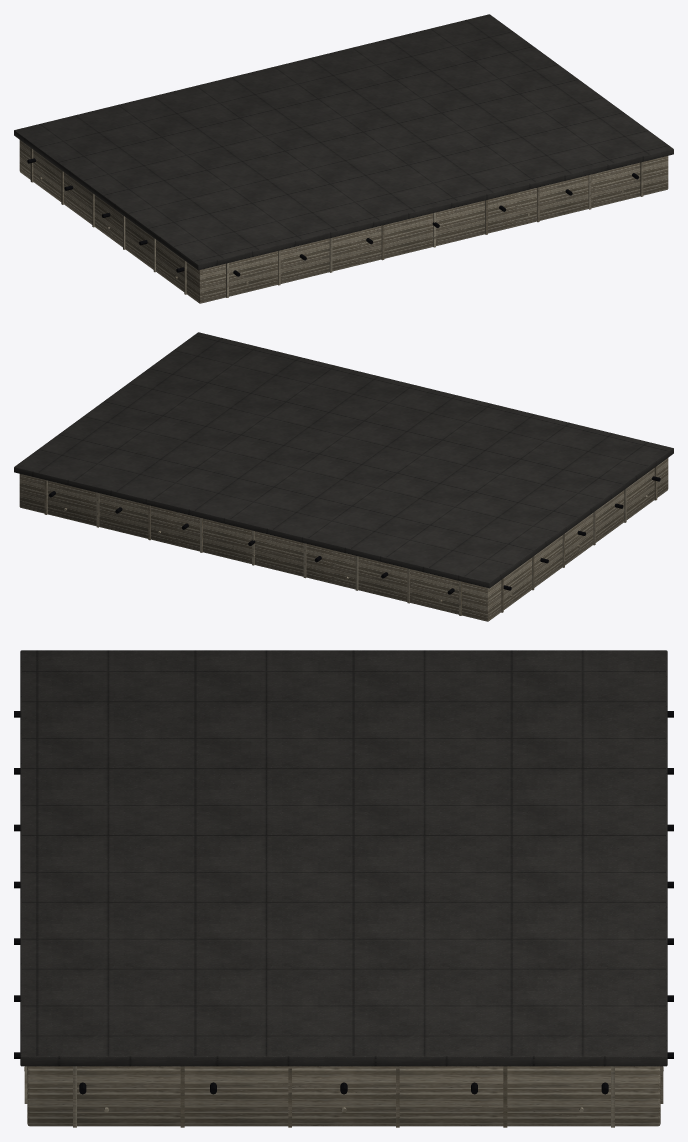
File: fac_stem.glb
The picture shows the model from 3 angles, top to bottom: view 1: azimuth 30°, elevation 25°; view 2: azimuth 150°, elevation 25°; view 3: azimuth 270°, elevation 25°; orthographic projection. The views are drawn at different scales.
Parts seen in each view (by area): view 1: FAC_STEM; view 2: FAC_STEM; view 3: FAC_STEM.
Part boxes in pixels (x1,y1,x2,y2): FAC_STEM: (14,14,673,303); FAC_STEM: (14,332,673,621); FAC_STEM: (14,650,673,1127).
Bounding box in the file's own units: 12.34 × 1.02 × 8.34.
Materials: 3 (3 with a texture image).
